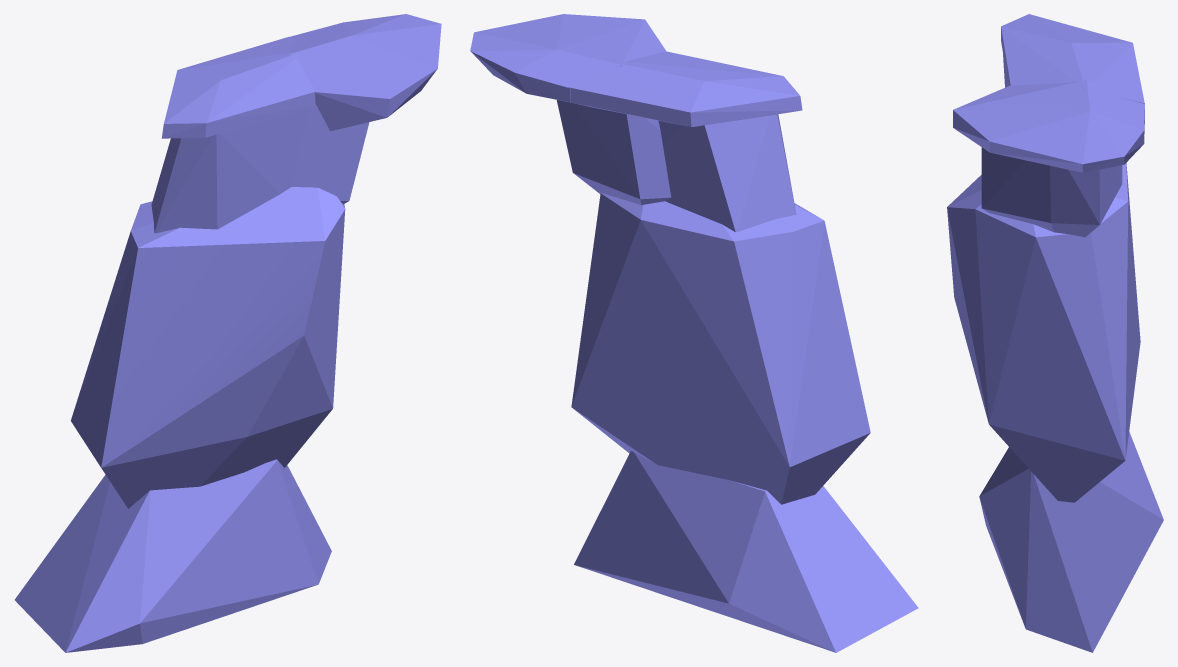
The model's file is Cliff_Spire_01_Collider_Slope_01.FBX.
3 renders of one model, left to right at view 1: azimuth 30°, elevation 25°; view 2: azimuth 150°, elevation 25°; view 3: azimuth 270°, elevation 25°, orthographic. The views are drawn at different scales.
Visible parts, largest first — view 1: COLLIDER6, COLLIDER1, COLLIDER4, COLLIDER3, COLLIDER2, COLLIDER5; view 2: COLLIDER6, COLLIDER1, COLLIDER4, COLLIDER2, COLLIDER3, COLLIDER5; view 3: COLLIDER6, COLLIDER1, COLLIDER3, COLLIDER5, COLLIDER2.
Boxes of the visible parts, x1,y1,x2,y2 form: COLLIDER6: [71, 187, 345, 508]; COLLIDER1: [14, 459, 331, 652]; COLLIDER4: [151, 108, 309, 233]; COLLIDER3: [289, 14, 441, 131]; COLLIDER2: [161, 37, 315, 138]; COLLIDER5: [291, 103, 369, 204]; COLLIDER6: [571, 193, 870, 504]; COLLIDER1: [574, 451, 918, 652]; COLLIDER4: [658, 114, 796, 232]; COLLIDER2: [568, 51, 802, 126]; COLLIDER3: [470, 14, 665, 102]; COLLIDER5: [556, 100, 671, 205]; COLLIDER6: [947, 163, 1140, 502]; COLLIDER1: [979, 432, 1163, 652]; COLLIDER3: [953, 80, 1144, 172]; COLLIDER5: [981, 147, 1122, 237]; COLLIDER2: [1001, 14, 1144, 103].
Bounding box in the file's own units: 534 × 635 × 227.
